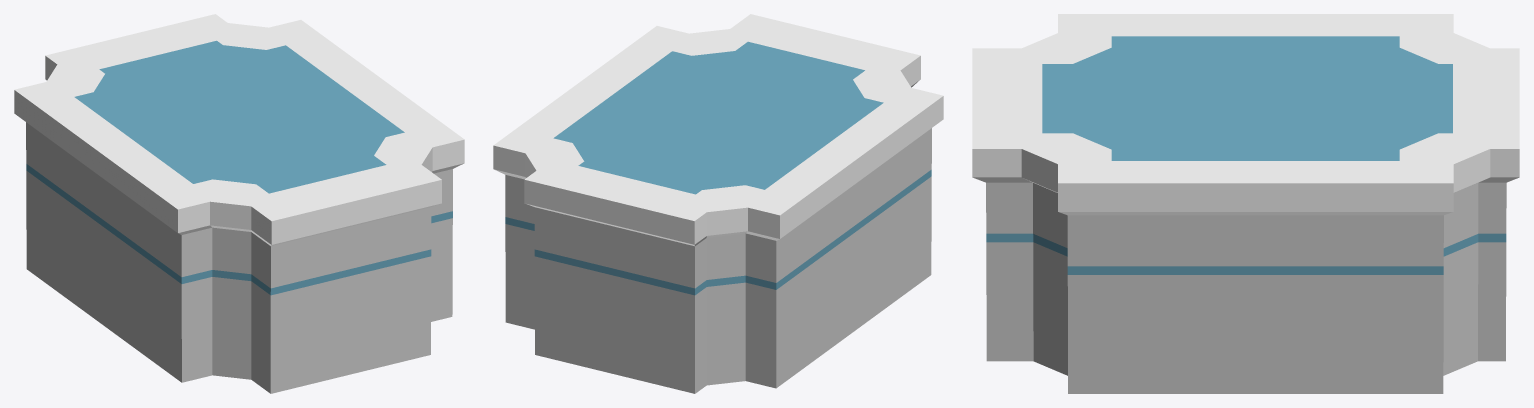
Rendered from Desk.fbx.
3 renders of one model, left to right at view 1: azimuth 30°, elevation 25°; view 2: azimuth 150°, elevation 25°; view 3: azimuth 270°, elevation 25°, orthographic. The views are drawn at different scales.
Visible parts, largest first — view 1: Cube.015; view 2: Cube.015; view 3: Cube.015.
Boxes of the visible parts, <box> form: Cube.015: <box>14,14,464,393</box>; Cube.015: <box>493,14,943,393</box>; Cube.015: <box>972,14,1519,393</box>.
Size of the model in its own units: 1031 by 612 by 1409.
